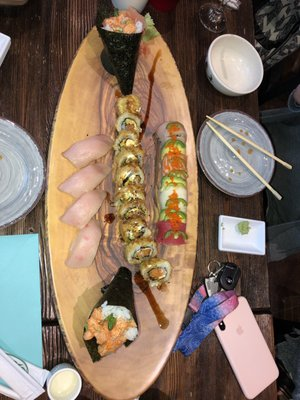pizza: (204, 33, 264, 97)
